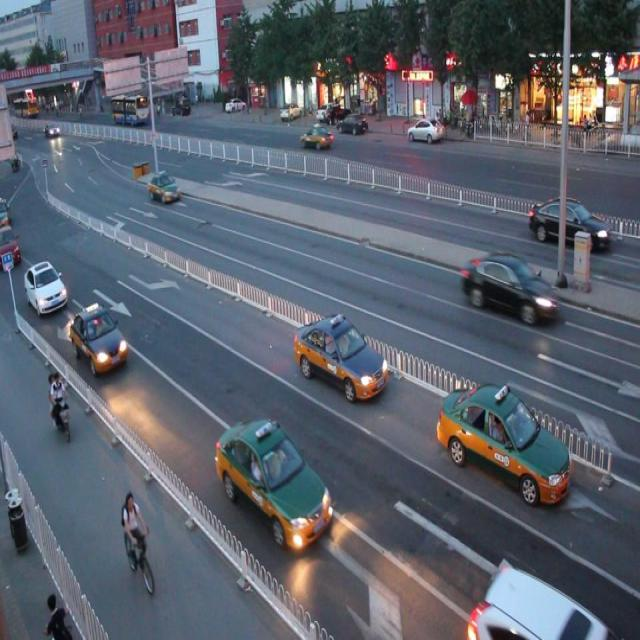car: (438, 376, 572, 505), (216, 416, 332, 548), (466, 563, 614, 640), (294, 309, 388, 400), (461, 247, 557, 325), (528, 192, 609, 251), (70, 301, 128, 377), (23, 257, 68, 317), (300, 124, 332, 150)
